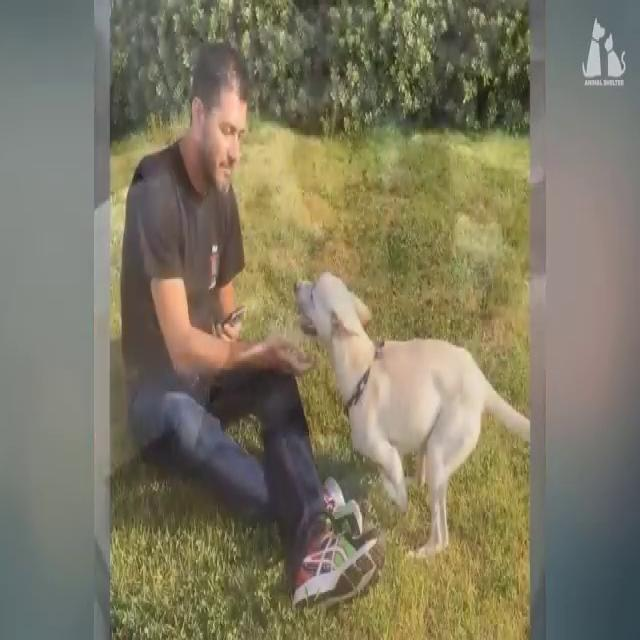injured-animals: (291, 263, 530, 562)
